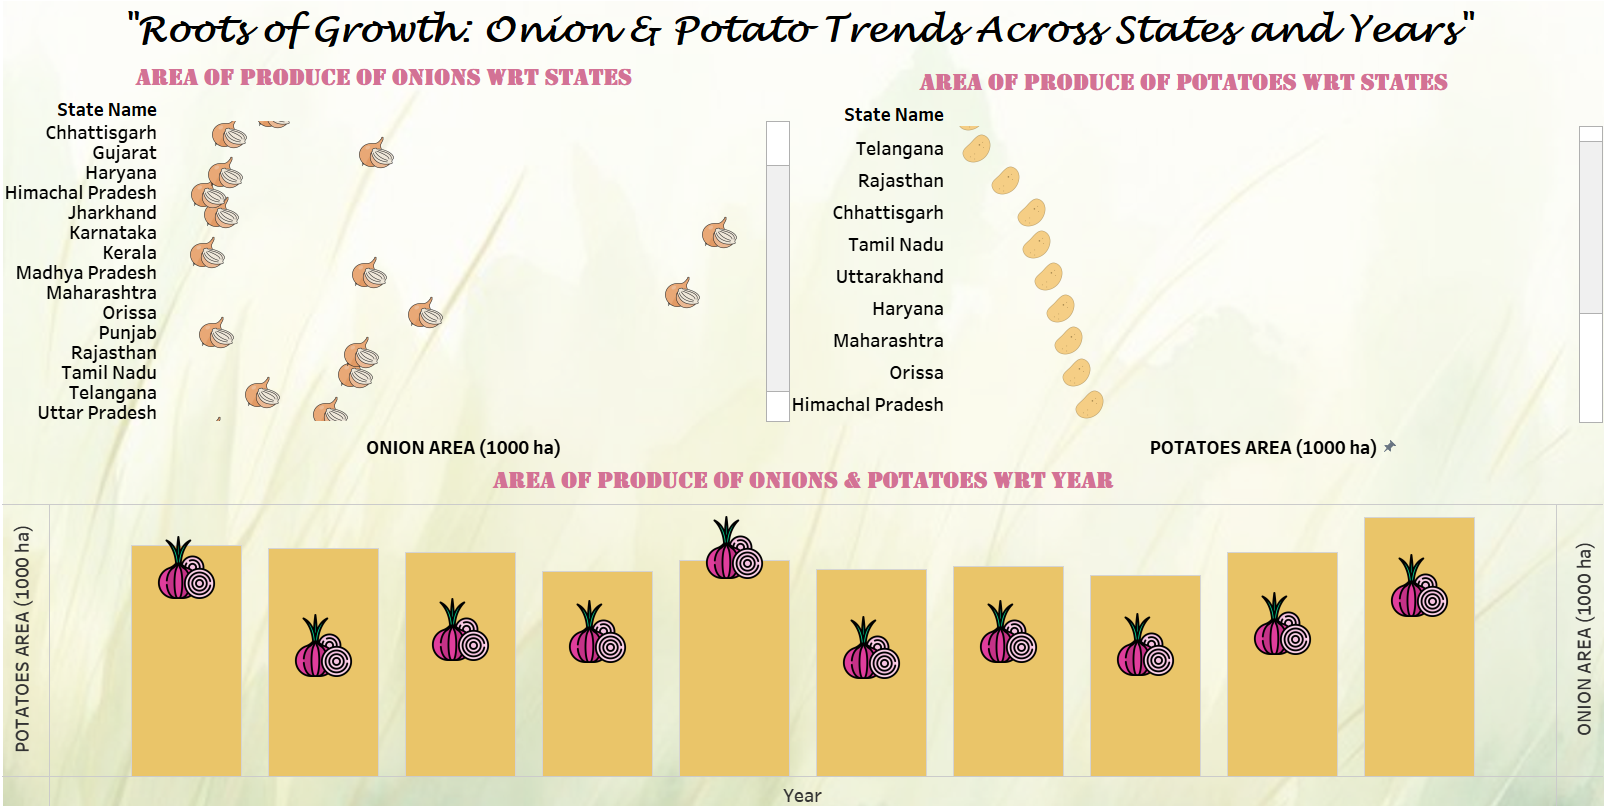

The page's visual inventory and layout, read from the dashboard file:
{"tool":"tableau","page":{"name":"5","canvas":[1000,1000],"units":"permille","ordinal":4},"visuals":[{"type":"text","box":[3,0,988,75.7]},{"type":"worksheet","title":"Sheet 26","mark":"Shape","rows":["State Name"],"cols":["ONION AREA (1000 ha)"],"box":[1.2,70.7,491,498.8]},{"type":"worksheet","title":"Sheet 14","mark":"Shape","rows":["State Name"],"cols":["POTATOES AREA (1000 ha)"],"box":[491.6,76.9,507.2,492.6]},{"type":"worksheet","title":"Sheet 4","mark":"Automatic","rows":["POTATOES AREA (1000 ha)","ONION AREA (1000 ha)"],"cols":["Year"],"box":[1.2,570.7,998.8,431.8]}]}

Visuals, with their boxes on the dashboard's canvas, which has no fixed pixel size, in thousandths of its width and height (x1, y1, x2, y2). These are canvas units, not pixel positions in the 1604x806 screenshot, which may show the page scaled, cropped or inside an application window:
text: 3,0,991,76
"Sheet 26" worksheet (Shape marks): 1,71,492,570
"Sheet 14" worksheet (Shape marks): 492,77,999,570
"Sheet 4" worksheet: 1,571,1000,1002
